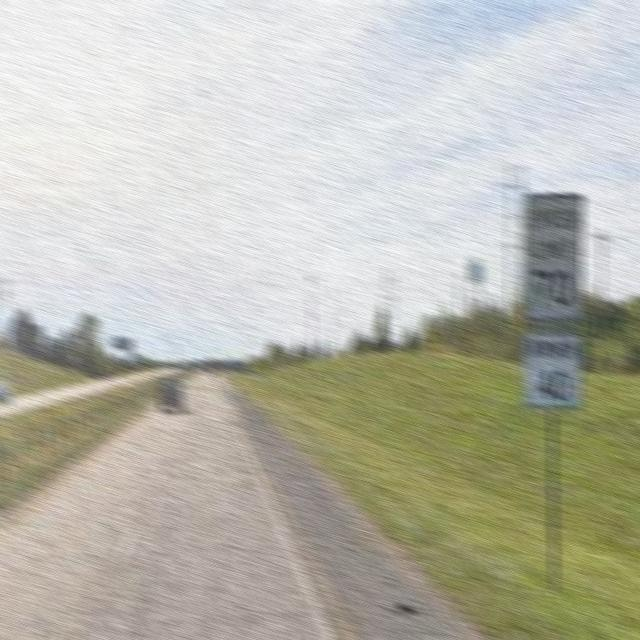speedLimit70: (518, 190, 584, 411)
